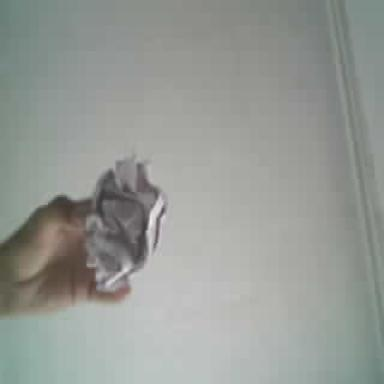paper: (86, 155, 166, 291)
